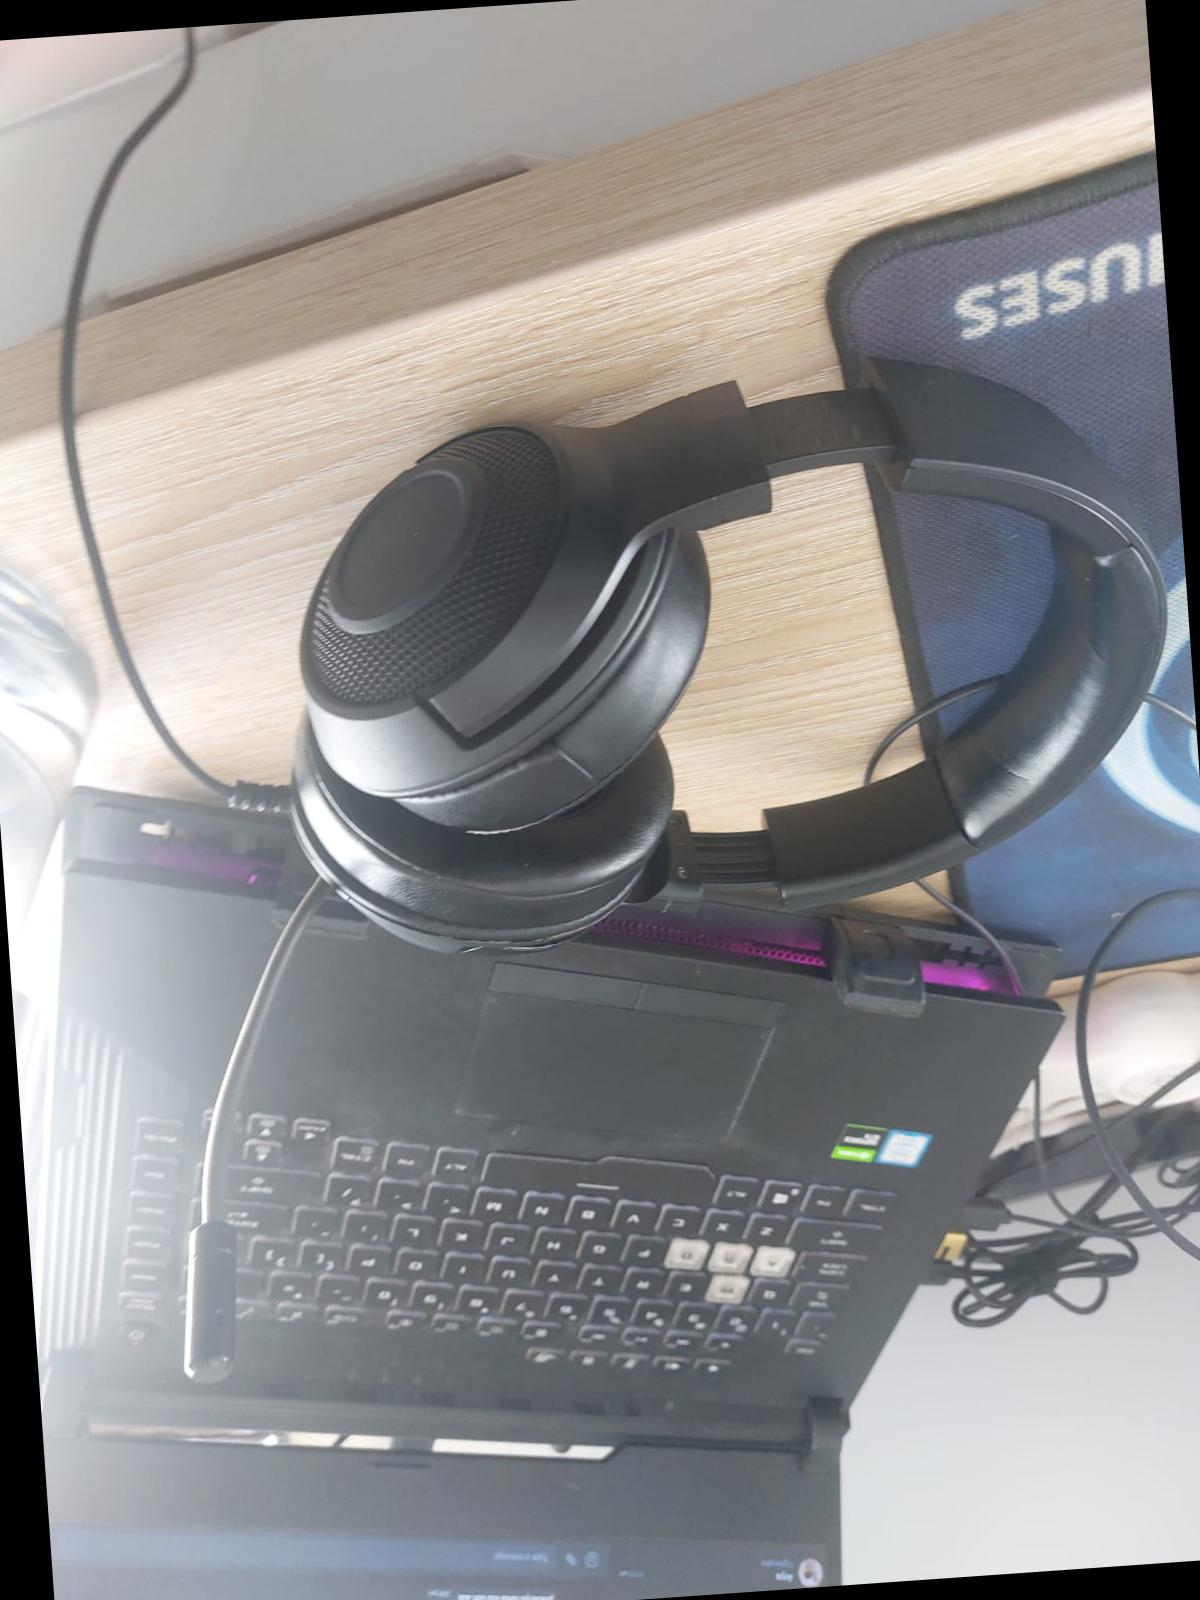Headset: (84, 319, 1199, 1409)
